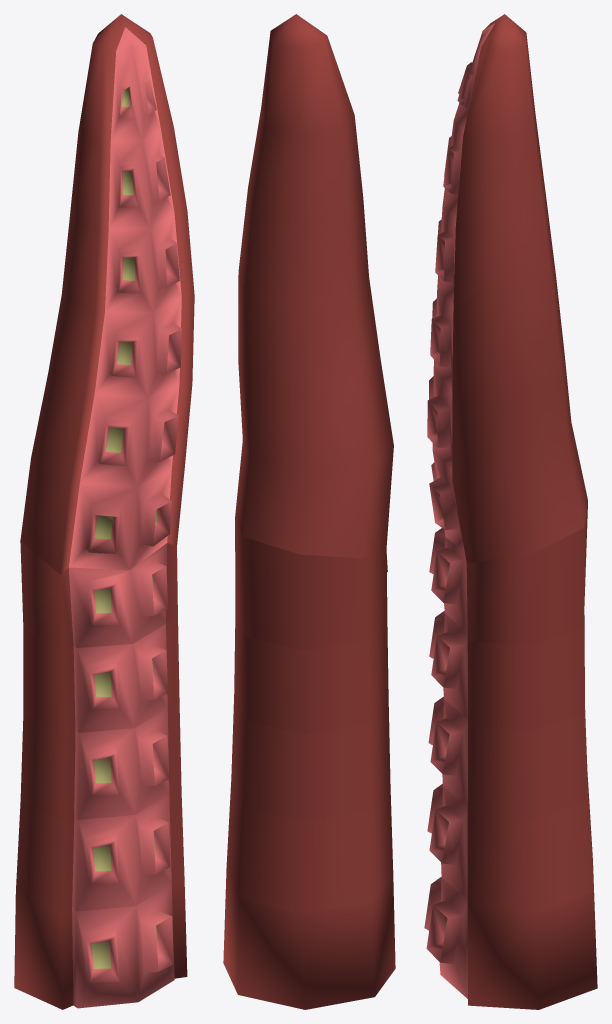
File: kraken.glb
3 renders of one model, left to right at view 1: azimuth 30°, elevation 25°; view 2: azimuth 150°, elevation 25°; view 3: azimuth 270°, elevation 25°, orthographic.
Visible parts, largest first — view 1: Tentacle, TentacleRoot5, TentacleRoot4, TentacleRoot3, TentacleRoot2, TentacleRoot1; view 2: Tentacle, TentacleRoot5, TentacleRoot4, TentacleRoot1, TentacleRoot3, TentacleRoot2; view 3: Tentacle, TentacleRoot5, TentacleRoot4, TentacleRoot3, TentacleRoot1, TentacleRoot2.
Boxes of the visible parts, bbox=[...] form: Tentacle: bbox=[20, 14, 194, 574]; TentacleRoot5: bbox=[14, 881, 187, 1009]; TentacleRoot4: bbox=[16, 791, 184, 912]; TentacleRoot3: bbox=[20, 705, 181, 820]; TentacleRoot2: bbox=[23, 622, 179, 733]; TentacleRoot1: bbox=[20, 541, 177, 648]; Tentacle: bbox=[235, 14, 393, 558]; TentacleRoot5: bbox=[223, 868, 395, 1009]; TentacleRoot4: bbox=[226, 778, 393, 913]; TentacleRoot1: bbox=[235, 519, 387, 650]; TentacleRoot3: bbox=[231, 693, 390, 821]; TentacleRoot2: bbox=[234, 608, 388, 734]; Tentacle: bbox=[427, 14, 587, 562]; TentacleRoot5: bbox=[424, 865, 597, 1009]; TentacleRoot4: bbox=[427, 772, 593, 912]; TentacleRoot3: bbox=[428, 696, 588, 819]; TentacleRoot1: bbox=[429, 503, 587, 645]; TentacleRoot2: bbox=[429, 611, 584, 730].
Bounding box in the file's own units: 0.6509 × 3.96 × 0.6424.
